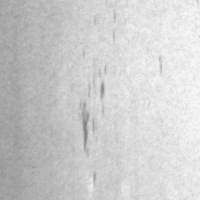inclusion: (84, 56, 112, 117), (76, 97, 99, 158)
